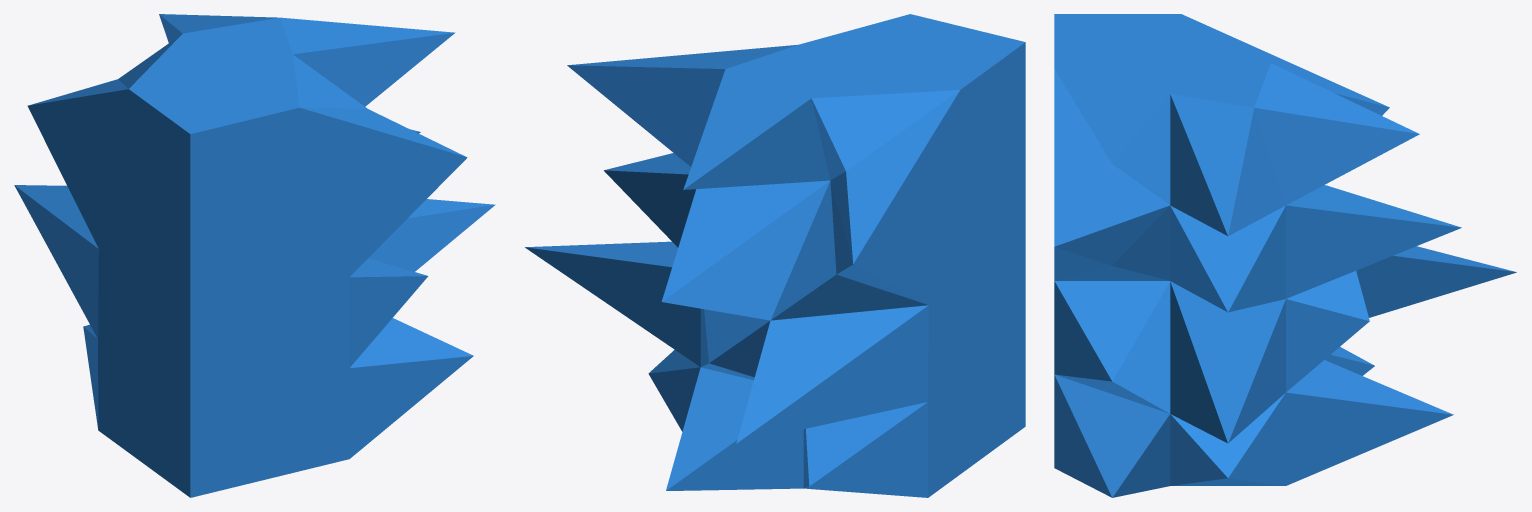
File: Spikes_2sides.fbx
3 renders of one model, left to right at view 1: azimuth 30°, elevation 25°; view 2: azimuth 150°, elevation 25°; view 3: azimuth 270°, elevation 25°, orthographic. The views are drawn at different scales.
Parts seen in each view (by area): view 1: Cube; view 2: Cube; view 3: Cube.
Part boxes in pixels (<box>): Cube: <box>14,14,495,497</box>; Cube: <box>525,14,1025,497</box>; Cube: <box>1054,14,1516,497</box>.
Bounding box in the file's own units: 100 × 89.16 × 100.
